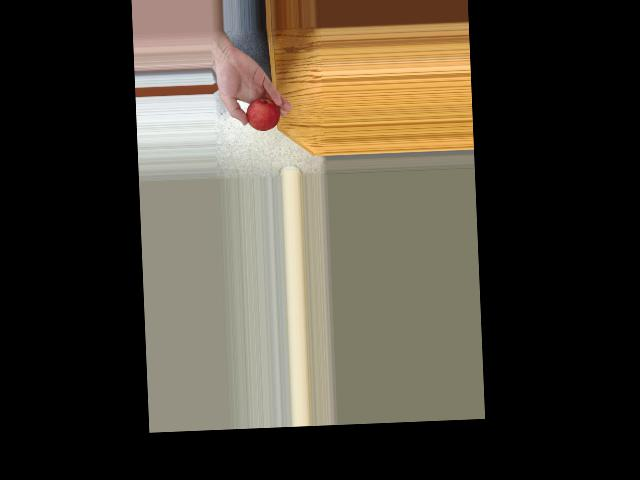apple: (240, 95, 280, 132)
